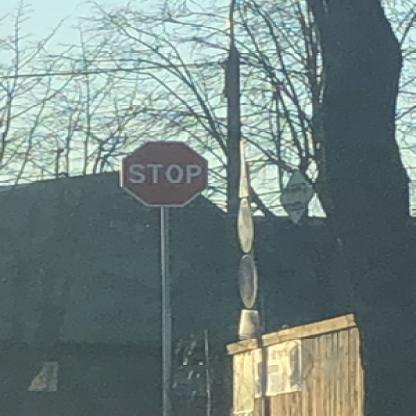stop: (118, 139, 208, 207)
